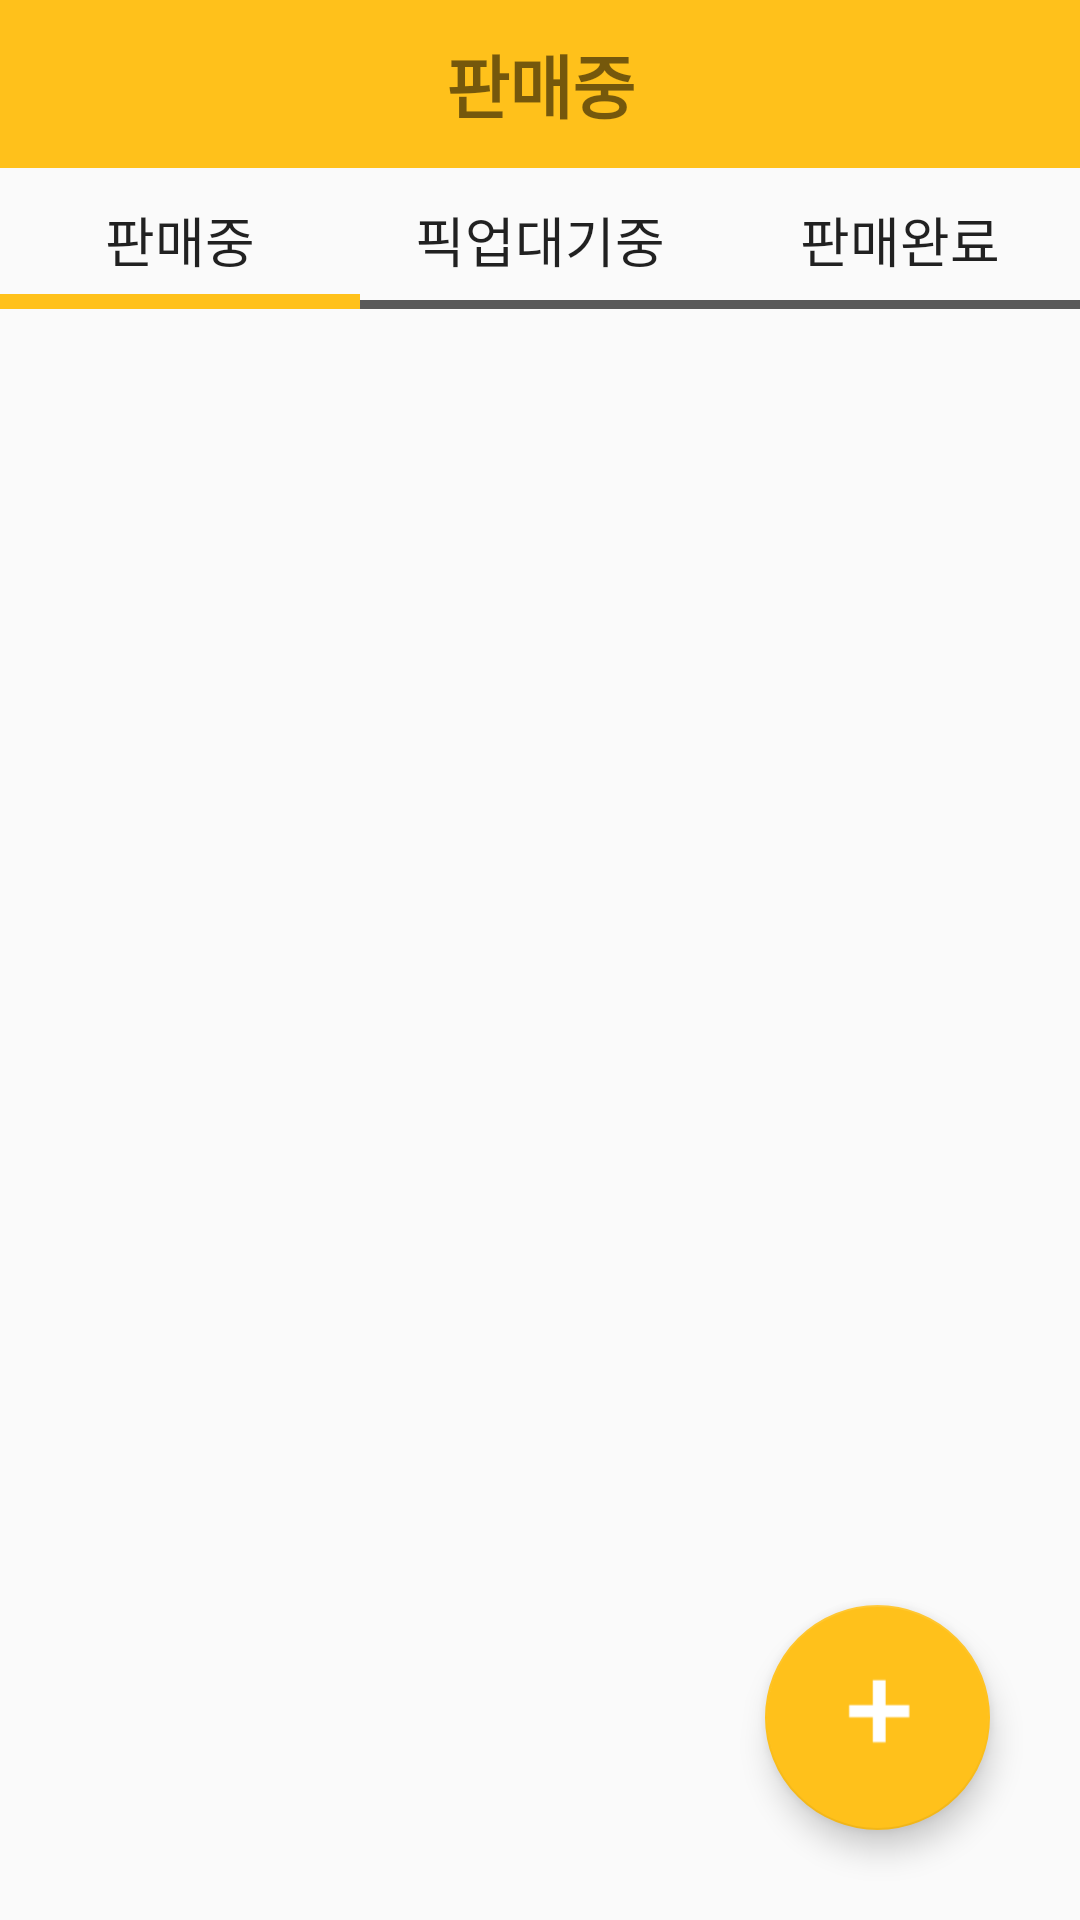

Icons on this 1080x1920 Android screen, each with its box as (x1, y1, x2, y2):
plus: (765, 1605, 990, 1830)
